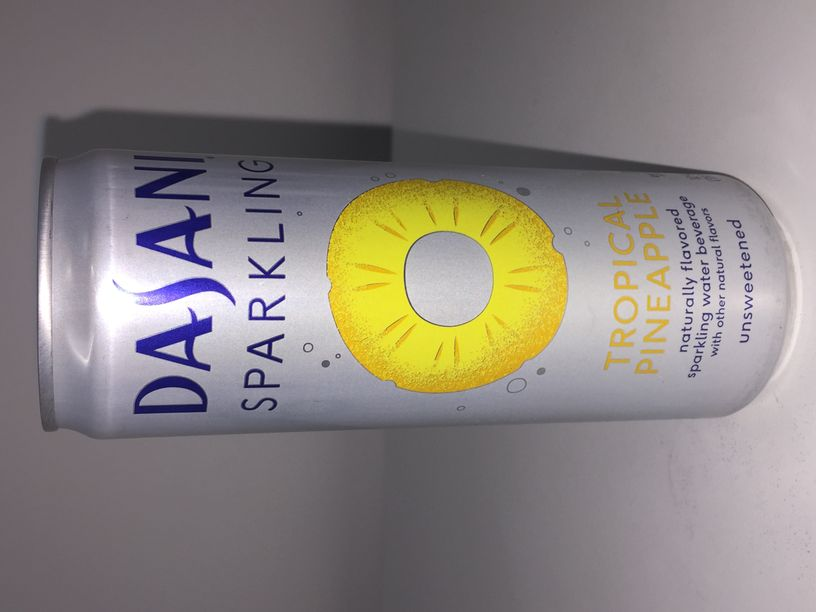pineapple: (41, 148, 792, 432)
